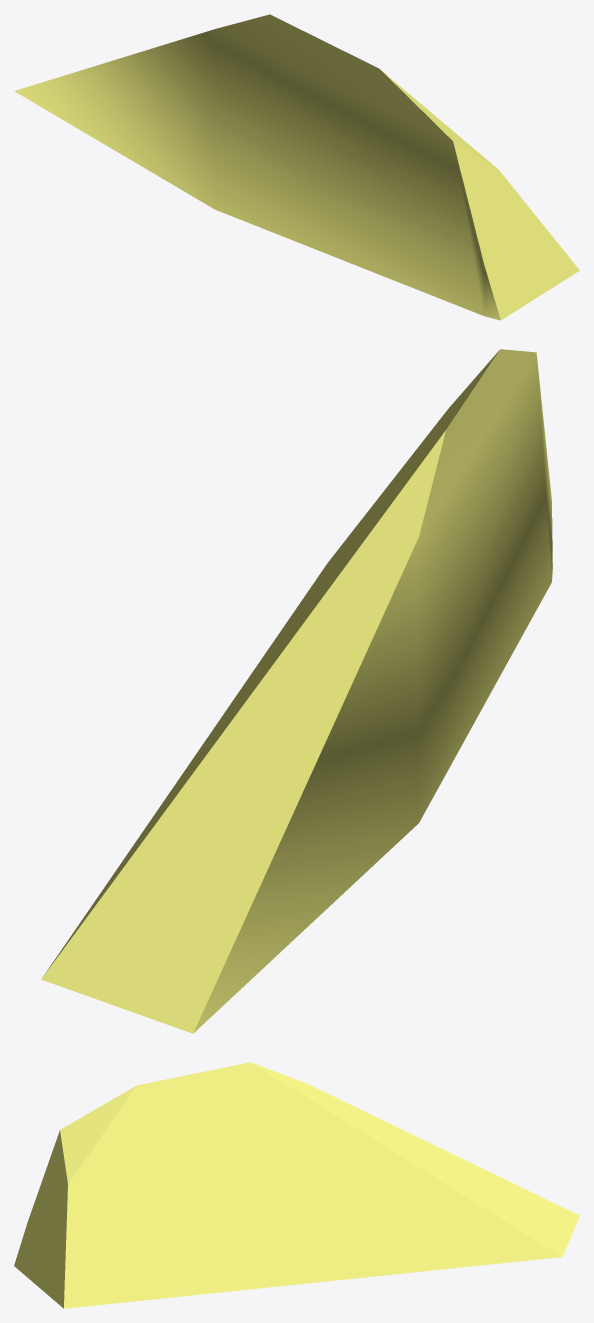
File: breakableCenter_cell_008.fbx
The picture shows the model from 3 angles, top to bottom: view 1: azimuth 30°, elevation 25°; view 2: azimuth 150°, elevation 25°; view 3: azimuth 270°, elevation 25°; orthographic projection. The views are drawn at different scales.
Visible parts, largest first — view 1: breakableCenter_cell.008; view 2: breakableCenter_cell.008; view 3: breakableCenter_cell.008.
Part boxes in pixels (<box>): breakableCenter_cell.008: <box>14,14,579,320</box>; breakableCenter_cell.008: <box>41,349,552,1033</box>; breakableCenter_cell.008: <box>14,1062,579,1308</box>.
Size of the model in its own units: 6.56 by 5.65 by 16.85.
